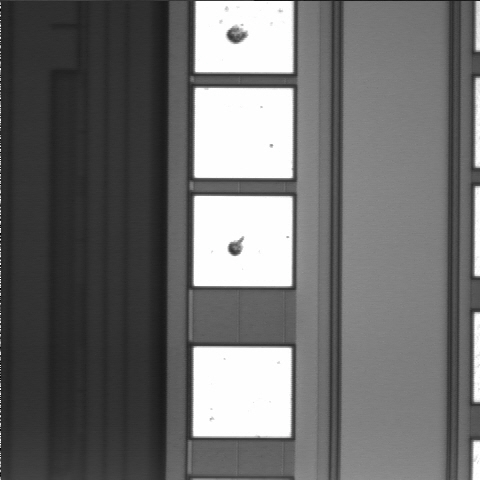pad: (194, 88, 293, 178), (194, 196, 292, 286), (193, 347, 291, 437)
